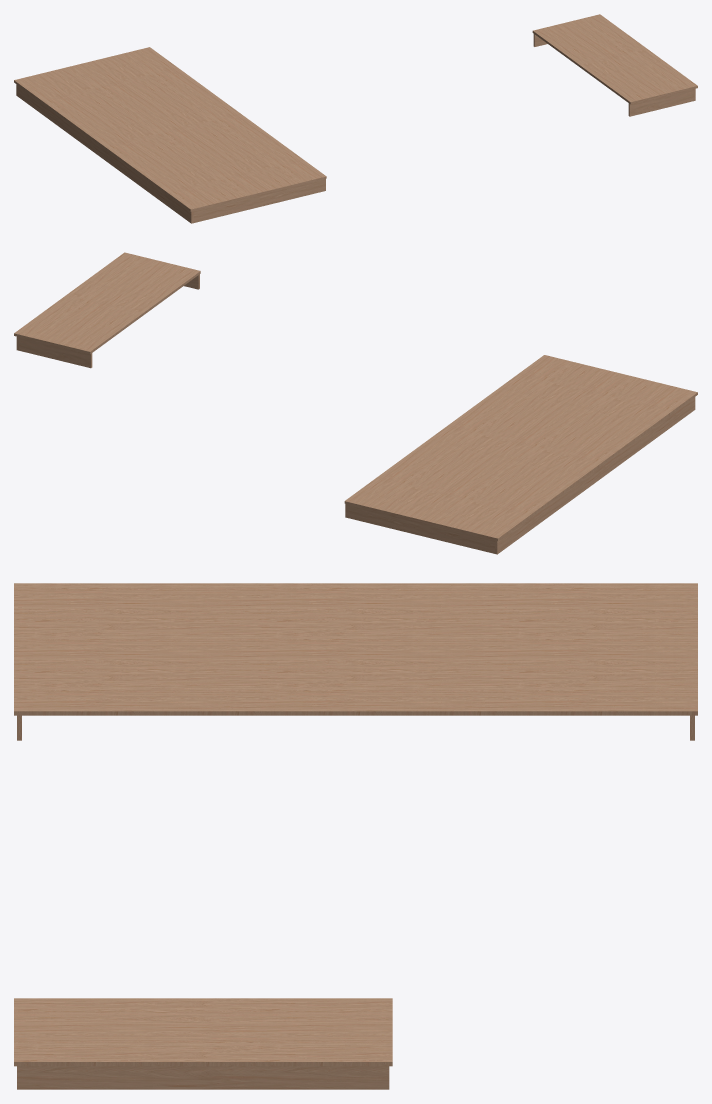
File: Deck.glb
3 renders of one model, top to bottom at view 1: azimuth 30°, elevation 25°; view 2: azimuth 150°, elevation 25°; view 3: azimuth 270°, elevation 25°, orthographic. The views are drawn at different scales.
Visible parts, largest first — view 1: object_3.001; view 2: object_3.001; view 3: object_3.001.
Boxes of the visible parts, box(x1,y1,x2,y2) form: object_3.001: box(14, 14, 697, 223); object_3.001: box(14, 252, 697, 554); object_3.001: box(14, 583, 697, 1089).
Bounding box in the file's own units: 3.61 × 0.1025 × 2.18.
1 material, 1 textured.
